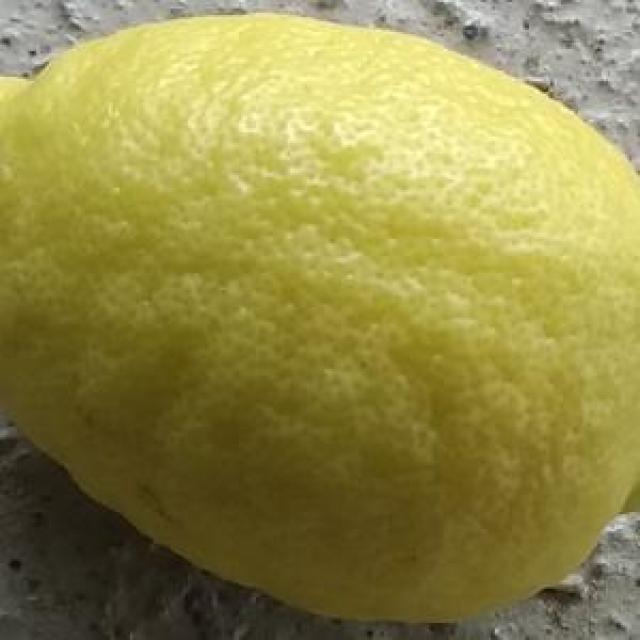lemon: (4, 16, 640, 620)
